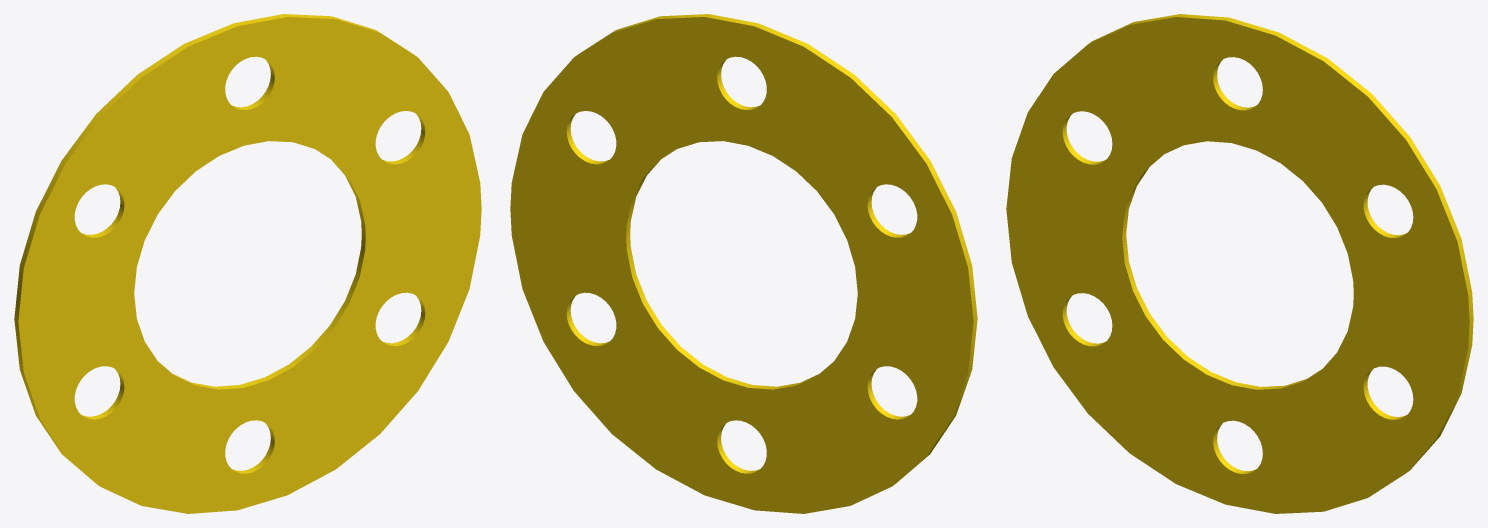
File: A26_E111_bicepMotorSpacer.gltf
3 renders of one model, left to right at view 1: azimuth 30°, elevation 25°; view 2: azimuth 150°, elevation 25°; view 3: azimuth 330°, elevation 25°, orthographic.
Parts seen in each view (by area): view 1: mesh94, mesh96, mesh93; view 2: mesh95, mesh96, mesh93; view 3: mesh94, mesh96, mesh93.
Part boxes in pixels (<box>): mesh94: <box>18,17,481,513</box>; mesh96: <box>14,14,415,485</box>; mesh93: <box>173,160,365,389</box>; mesh95: <box>510,17,973,513</box>; mesh96: <box>576,14,977,485</box>; mesh93: <box>626,160,818,389</box>; mesh94: <box>1006,17,1469,513</box>; mesh96: <box>1089,14,1473,472</box>; mesh93: <box>1122,155,1321,389</box>.
Bounding box in the file's own units: 0.04 × 0.0399 × 0.0006.
